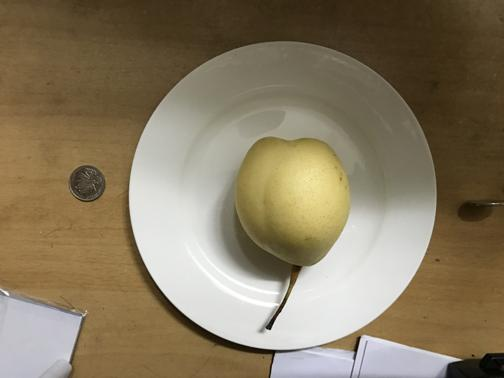coin: (68, 163, 104, 202)
pear: (237, 138, 353, 266)
